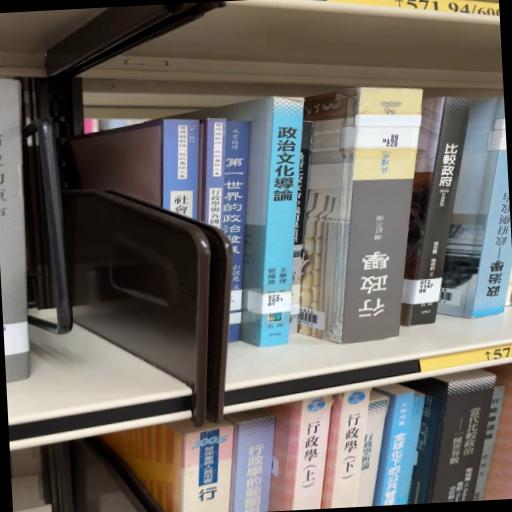reverse: (299, 88, 423, 345)
